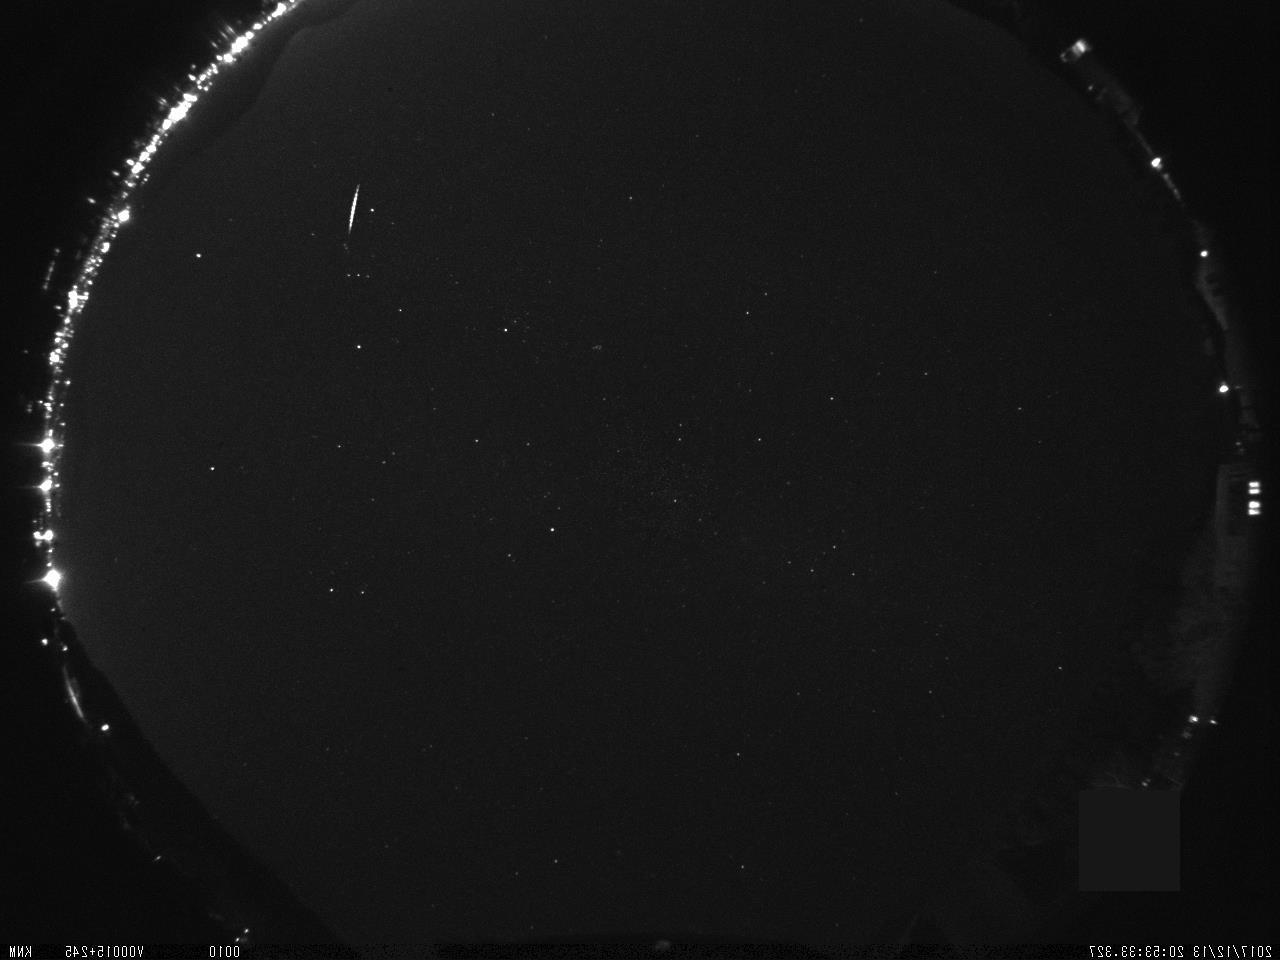meteor: (337, 178, 374, 239)
